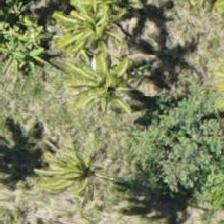coconut_tree: (61, 40, 151, 130), (28, 131, 118, 221), (45, 0, 135, 81)
